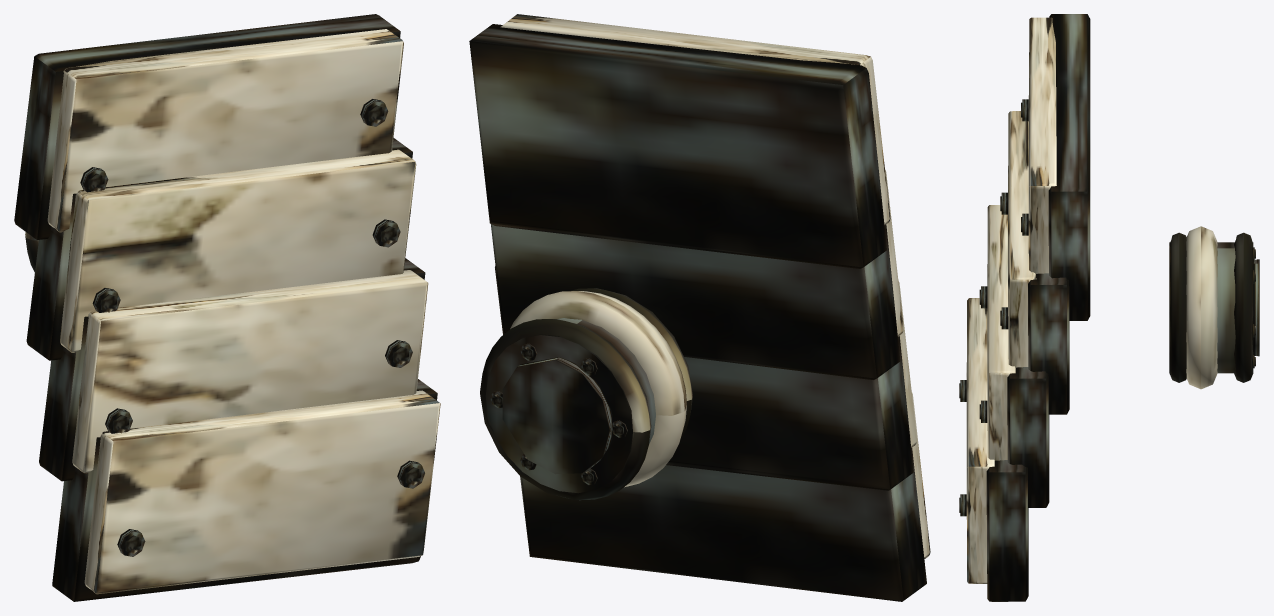
File: organ-armor-icon-v1.glb
3 renders of one model, left to right at view 1: azimuth 30°, elevation 25°; view 2: azimuth 150°, elevation 25°; view 3: azimuth 270°, elevation 25°, orthographic. The views are drawn at different scales.
Parts seen in each view (by area): view 1: organ-armor-icon-v1-ceramic, organ-armor-icon-v1-steel, organ-armor-icon-v1-brass; view 2: organ-armor-icon-v1-steel, organ-armor-icon-v1-ceramic, organ-armor-icon-v1-brass; view 3: organ-armor-icon-v1-steel, organ-armor-icon-v1-ceramic, organ-armor-icon-v1-brass.
Boxes of the visible parts, <box> form: organ-armor-icon-v1-ceramic: <box>47,29,440,594</box>; organ-armor-icon-v1-steel: <box>14,14,437,601</box>; organ-armor-icon-v1-brass: <box>25,105,421,553</box>; organ-armor-icon-v1-steel: <box>469,24,926,601</box>; organ-armor-icon-v1-ceramic: <box>500,14,930,558</box>; organ-armor-icon-v1-brass: <box>480,288,692,500</box>; organ-armor-icon-v1-steel: <box>960,14,1259,601</box>; organ-armor-icon-v1-ceramic: <box>966,17,1217,583</box>; organ-armor-icon-v1-brass: <box>959,102,1255,512</box>.
Bounding box in the file's own units: 0.5519 × 0.7831 × 0.466.
Materials: 1 (1 with a texture image).
